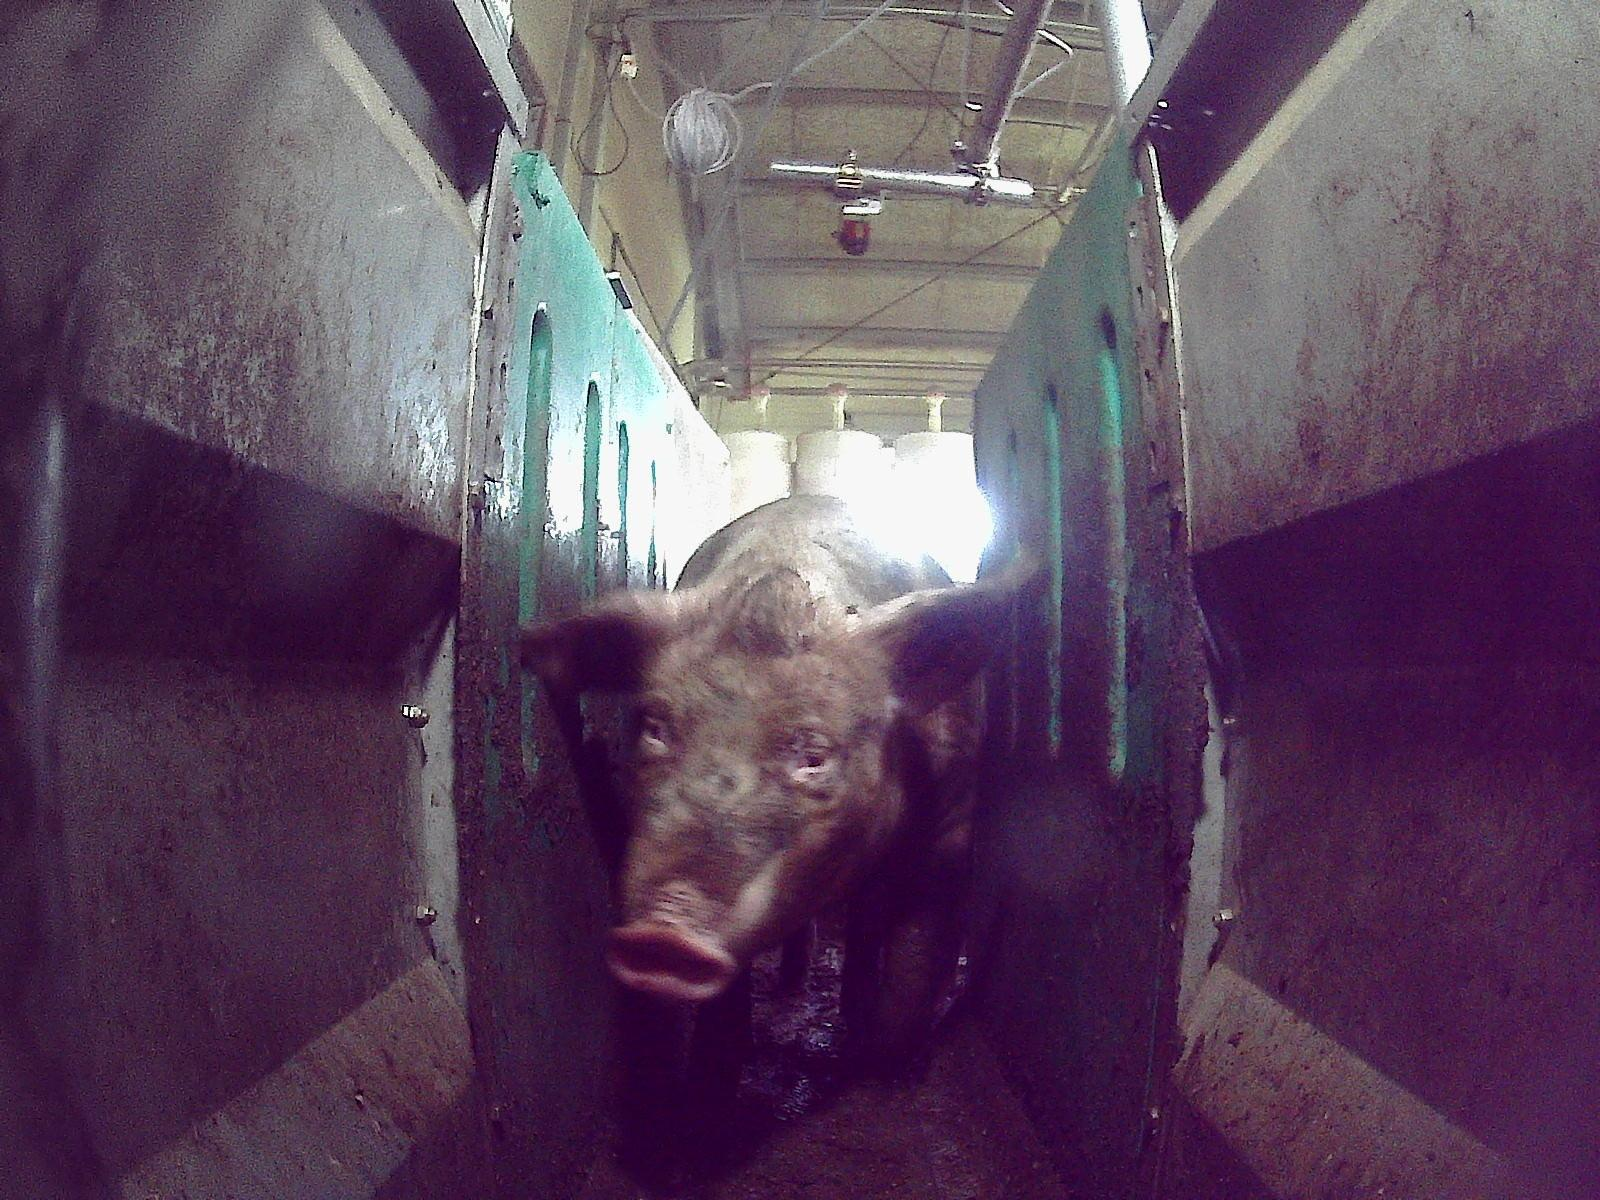Face: (602, 638, 888, 997)
